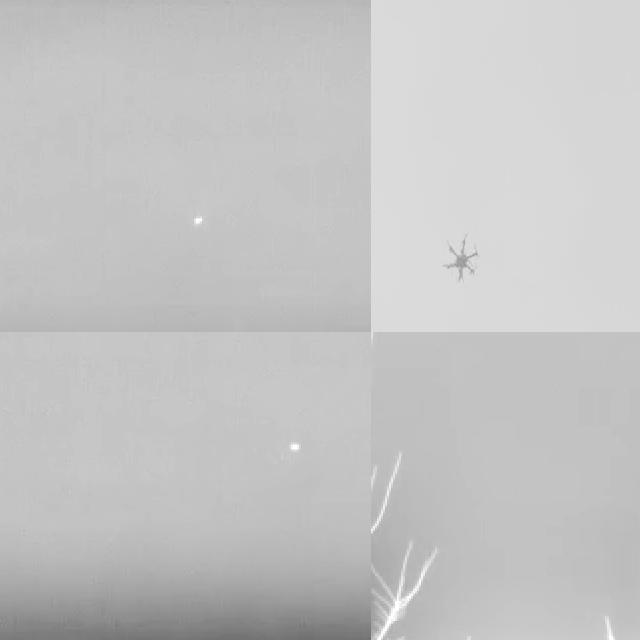1: (284, 434, 310, 462), (189, 211, 215, 236)
drone: (442, 225, 481, 288)
